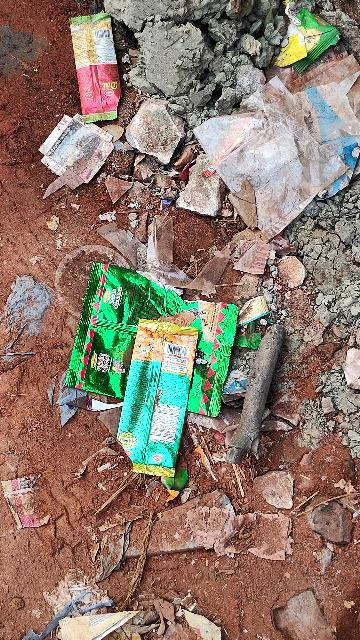packet: (85, 263, 211, 486), (63, 7, 121, 124)
